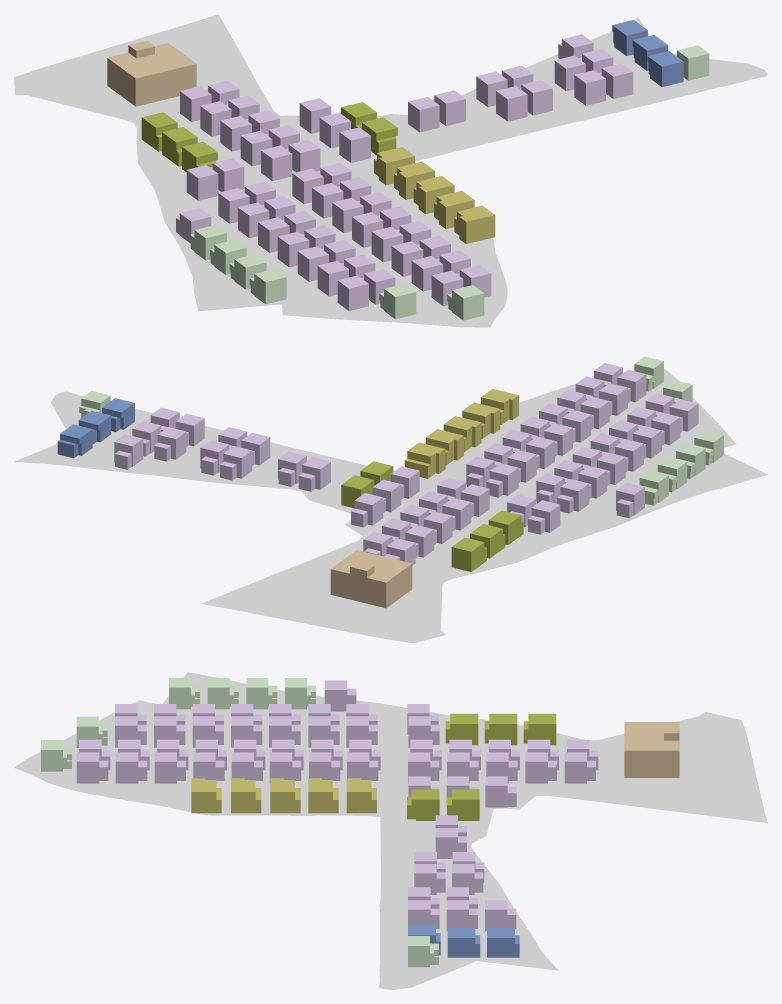
File: New glb.glb
The picture shows the model from 3 angles, top to bottom: view 1: azimuth 30°, elevation 25°; view 2: azimuth 150°, elevation 25°; view 3: azimuth 270°, elevation 25°; orthographic projection. The views are drawn at different scales.
Visible parts, largest first — view 1: Landscape, Clubhouse, V27-02 (×5), V16-02 (×5), V02-02 (×3); view 2: Landscape, Clubhouse, V27-02 (×5), V16-02 (×2); view 3: Landscape, Clubhouse, V16-02 (×4), V27-02 (×2).
Part boxes in pixels (box(x1,y1,x2,y2)): Landscape: box(14, 14, 767, 327); Clubhouse: box(107, 40, 196, 106); V27-02 (×5): box(377, 147, 495, 229); V16-02 (×5): box(141, 102, 397, 165); V02-02 (×3): box(612, 20, 683, 72); Landscape: box(14, 369, 767, 643); Clubhouse: box(330, 550, 412, 608); V27-02 (×5): box(407, 388, 518, 463); V16-02 (×2): box(341, 475, 484, 558); Landscape: box(14, 672, 767, 989); Clubhouse: box(624, 722, 679, 777); V16-02 (×4): box(411, 713, 556, 807); V27-02 (×2): box(191, 778, 371, 799).
Size of the model in its own units: 376 by 19 by 376.
